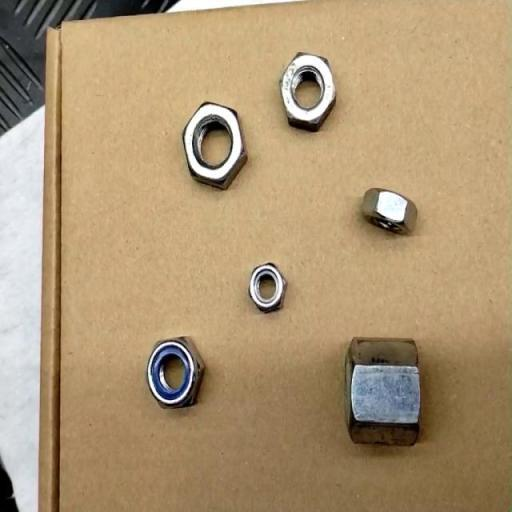Nut: (343, 336, 424, 447), (181, 101, 249, 190), (279, 52, 338, 133), (145, 335, 204, 411), (360, 186, 420, 237), (248, 262, 287, 313)
